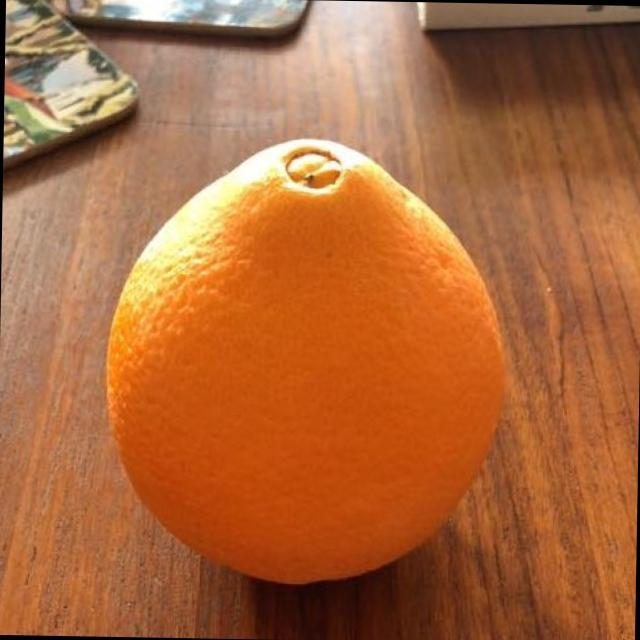Orange: (93, 123, 526, 602)
